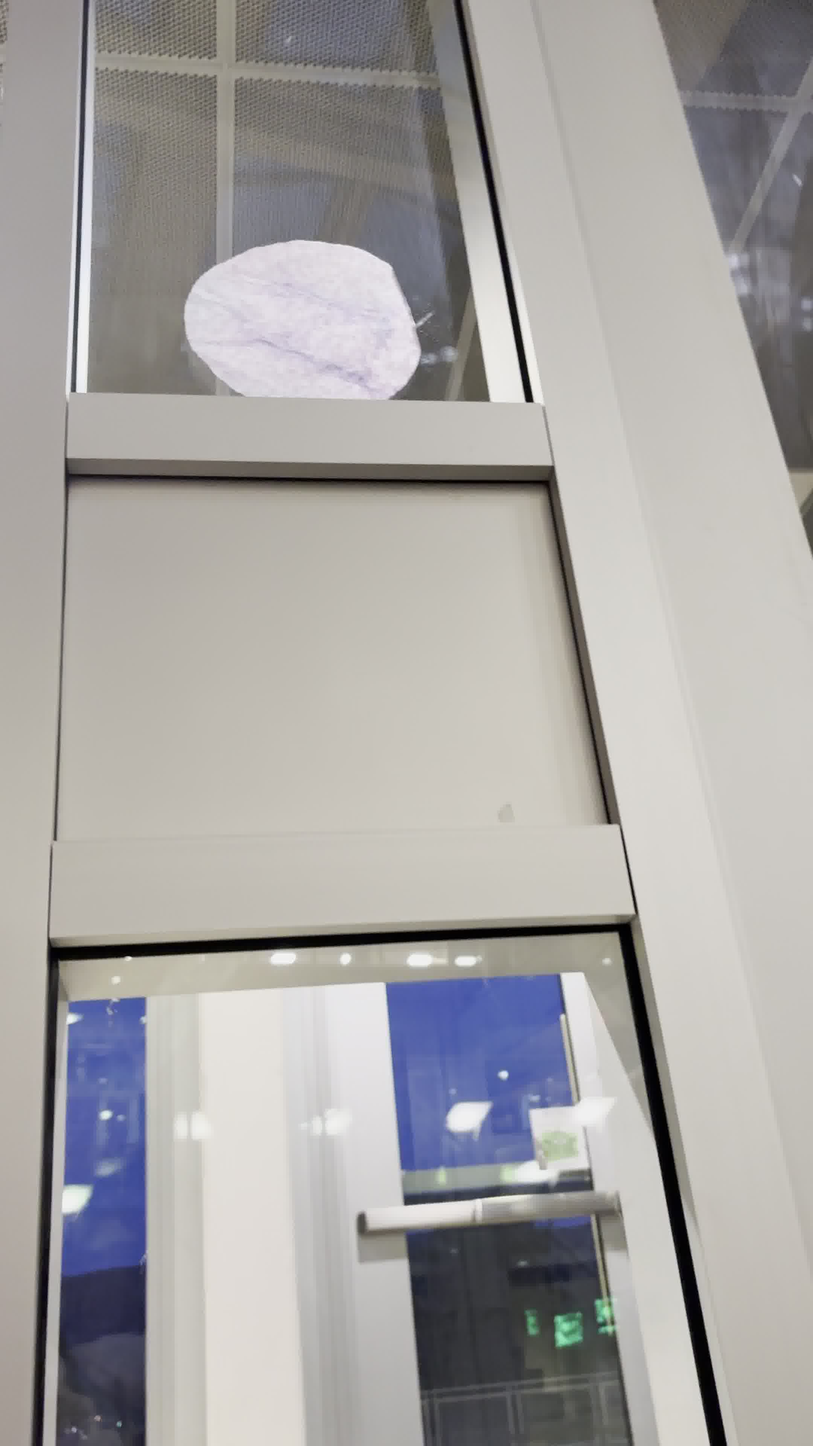Target: (180, 236, 425, 407)
